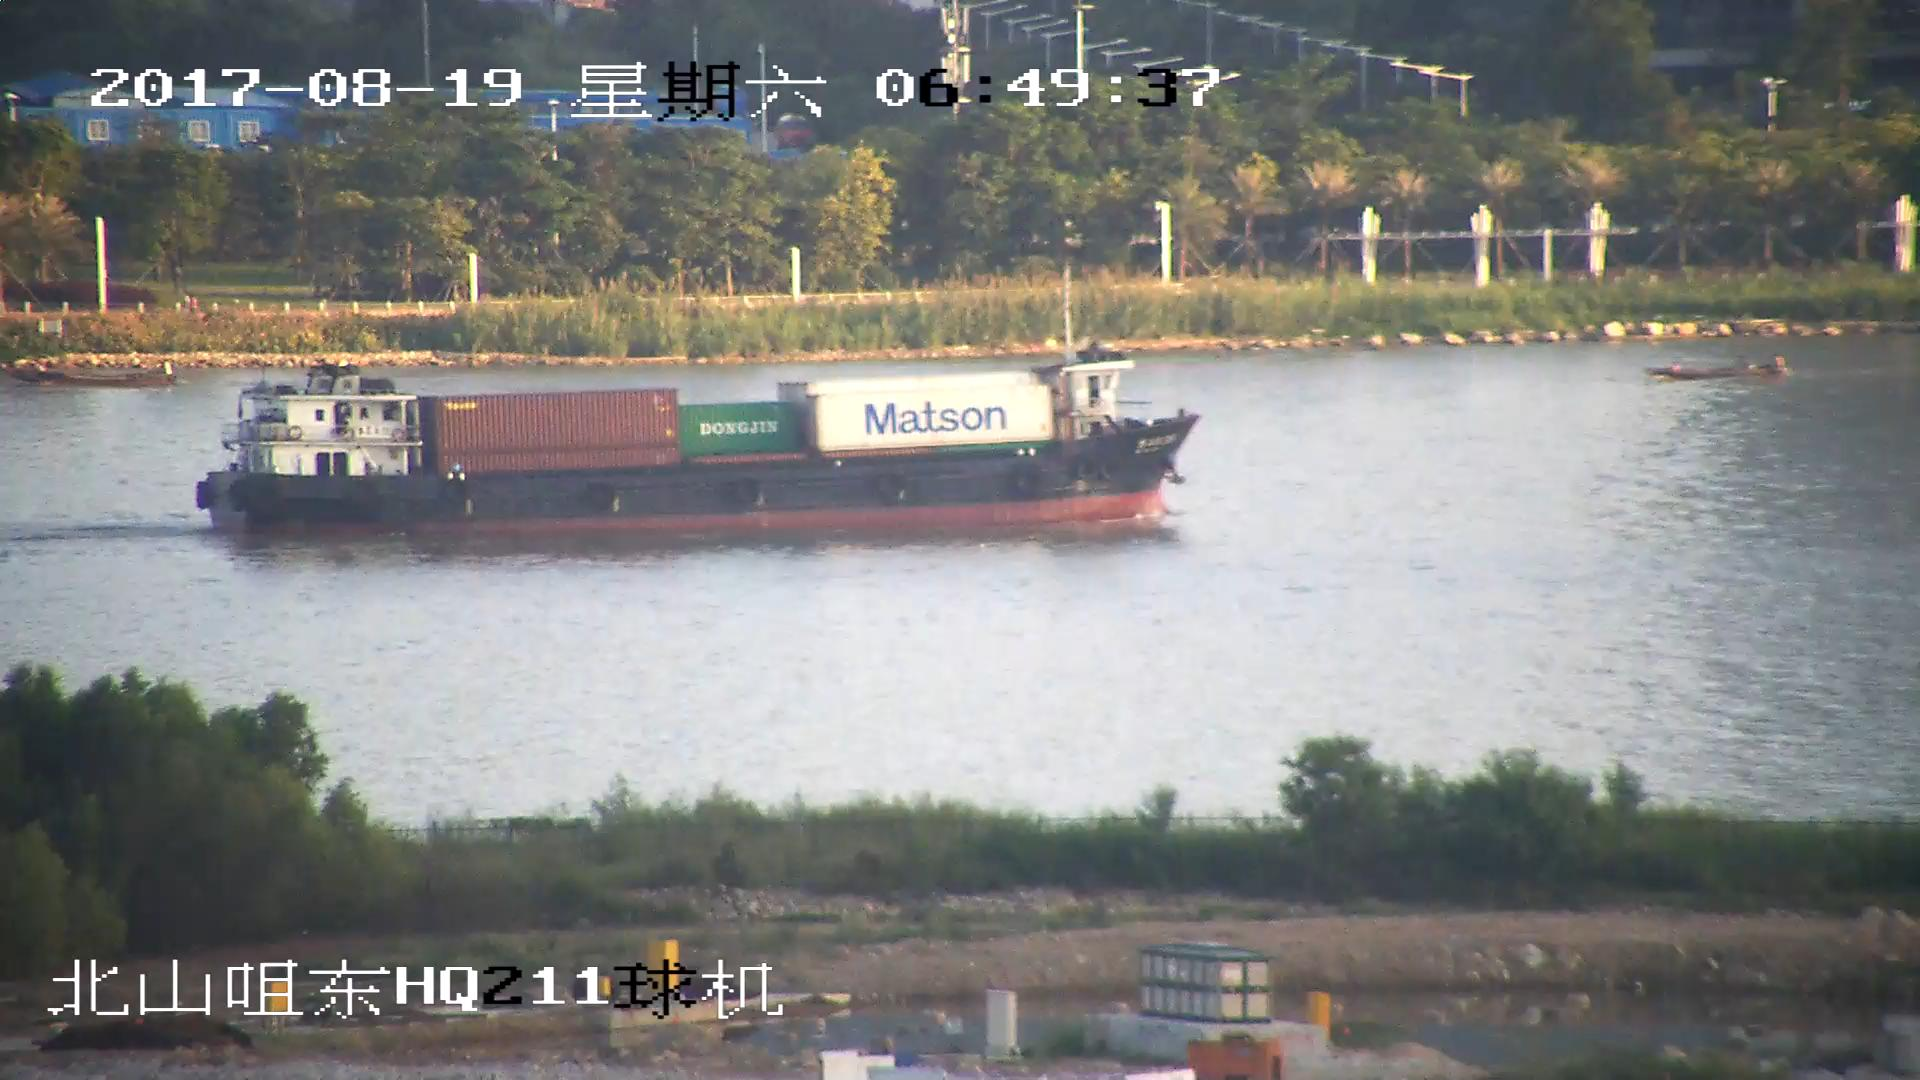container ship: (193, 358, 1199, 543)
fishing boat: (7, 358, 180, 390), (1646, 350, 1791, 386)
